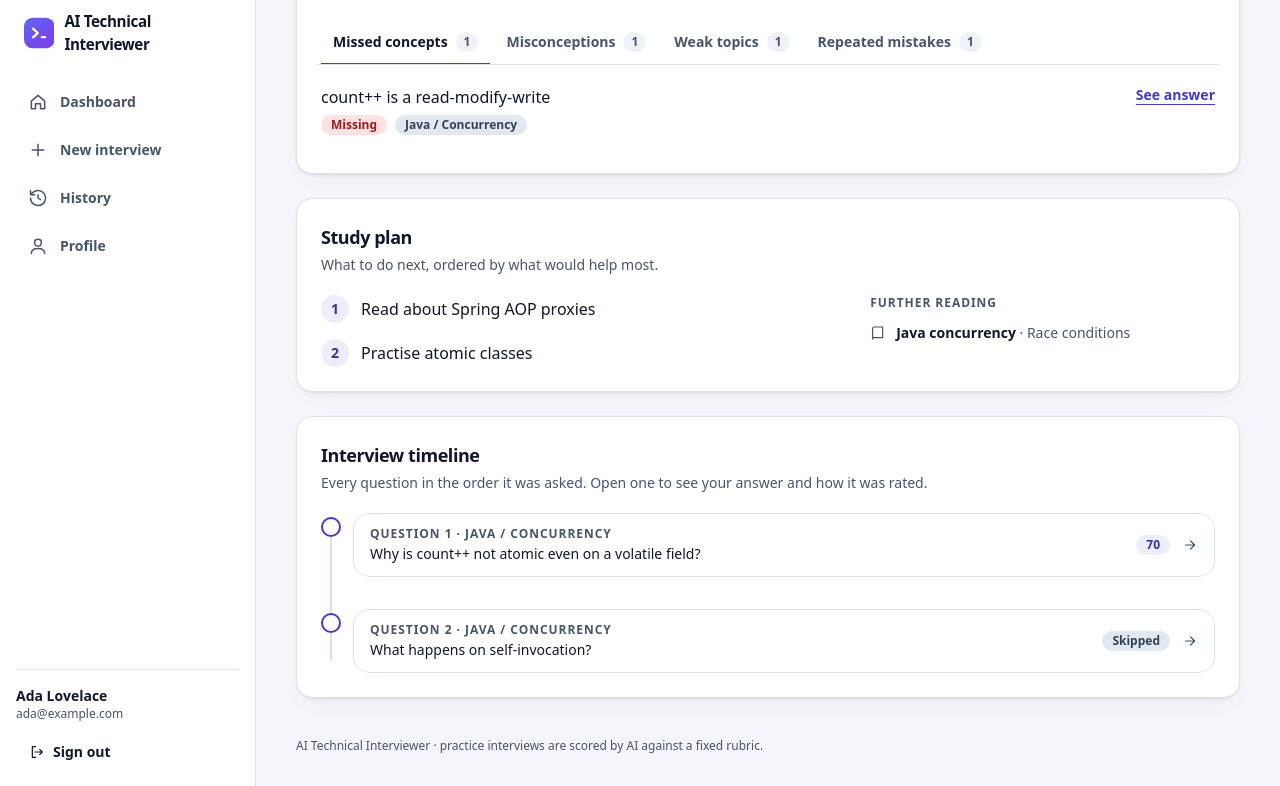
Test: ResultsPage: a ready report › shows every question in a timeline with the answer and how it was rated
(page scrolled)
Check: the text "Skipped" is shown, box top-left (1102, 631), bottom-right (1170, 651)
Click the text "Question 1 · Java / Concurrency".
click(491, 534)  # box top-left (370, 525), bottom-right (612, 542)
(page scrolled)
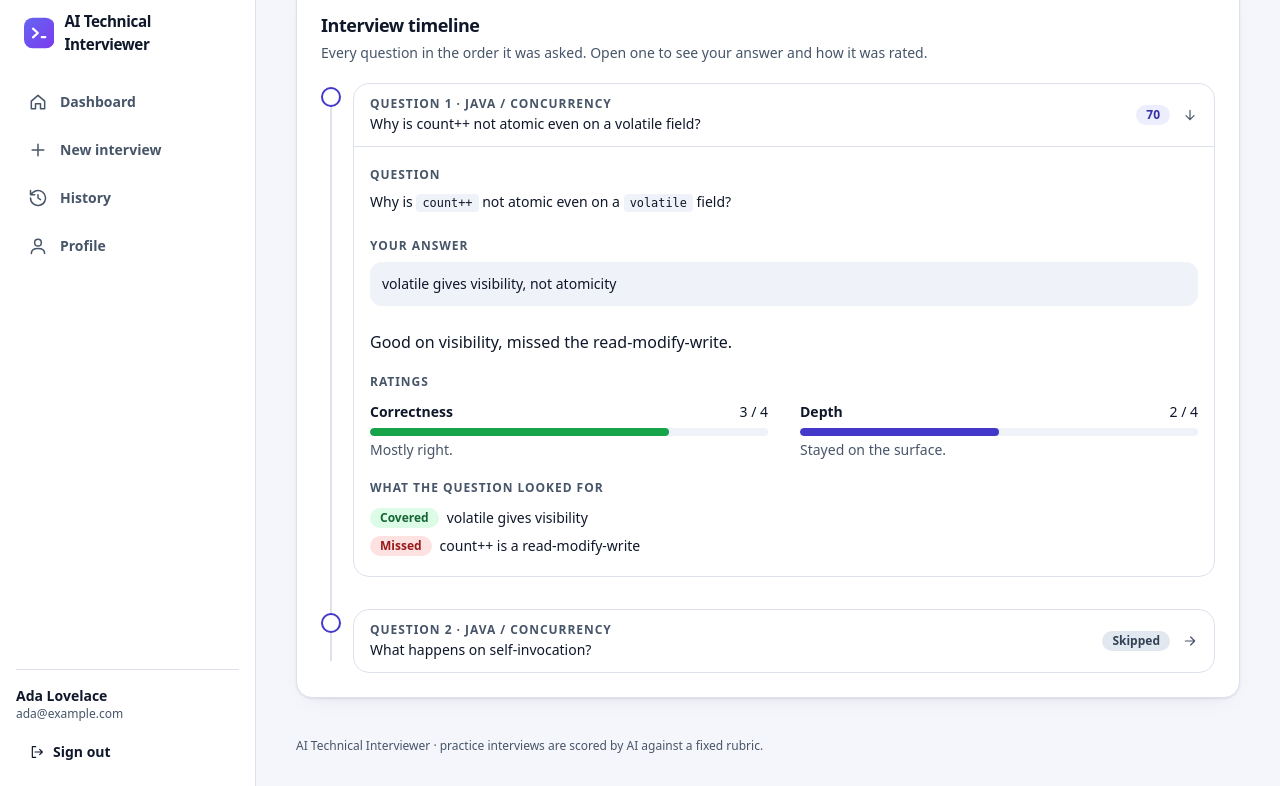
Check: the text "volatile gives visibility, not atomicity" is shown, box top-left (370, 262), bottom-right (1198, 306)
Check: the text "Good on visibility, missed the read-modify-write." is shown, box top-left (370, 331), bottom-right (732, 353)
Check: the text "Missed" is shown, box top-left (370, 536), bottom-right (432, 556)
